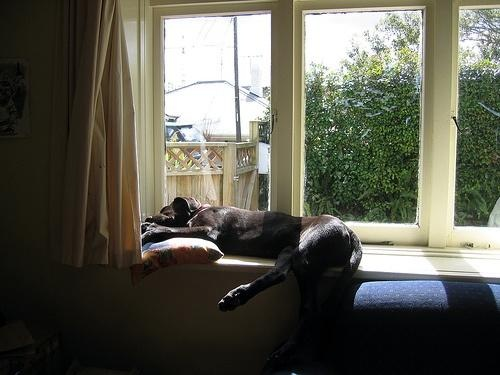dog: (142, 193, 366, 318)
